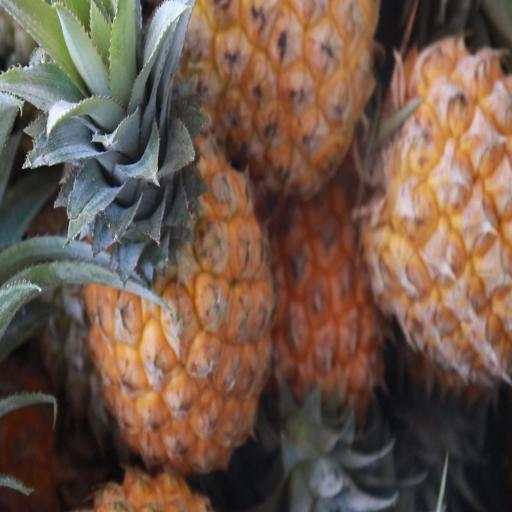Pineapple - v8 v1: (83, 113, 276, 462), (372, 34, 512, 377), (270, 156, 399, 412), (192, 0, 379, 174)
